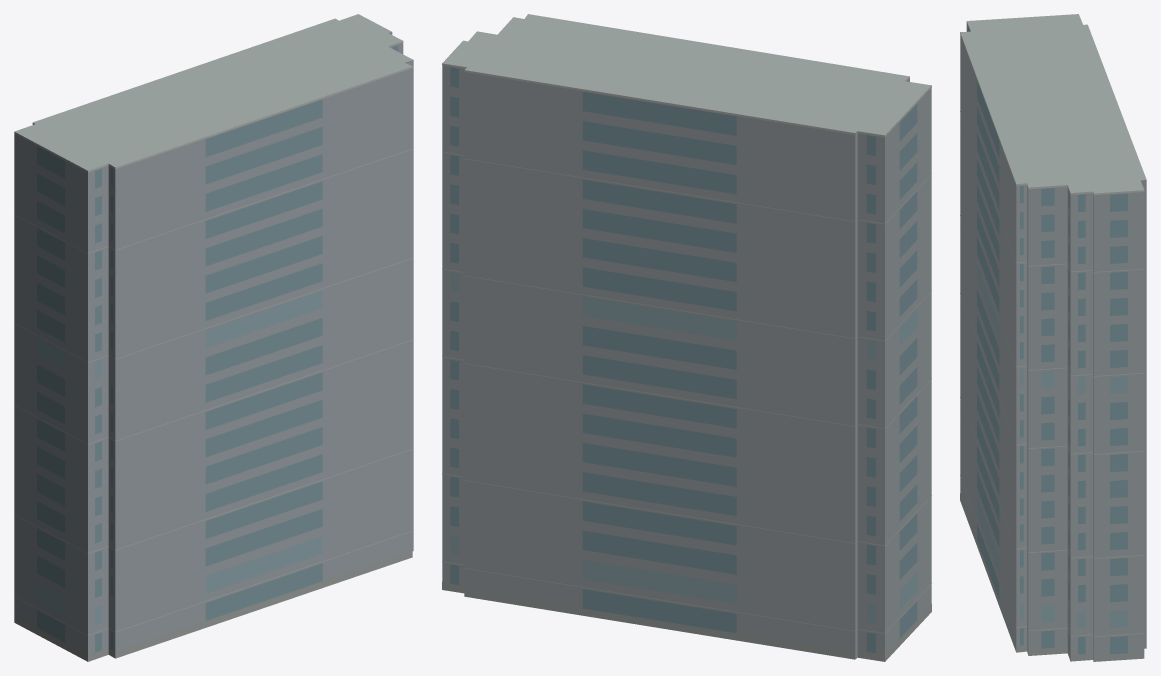
The model's file is survey-upis-33039816.glb.
The picture shows the model from 3 angles, left to right: view 1: azimuth 30°, elevation 25°; view 2: azimuth 150°, elevation 25°; view 3: azimuth 270°, elevation 25°; orthographic projection. The views are drawn at different scales.
Visible parts, largest first — view 1: survey-upis-33039816.tmp; view 2: survey-upis-33039816.tmp; view 3: survey-upis-33039816.tmp.
Part boxes in pixels (x1=…): survey-upis-33039816.tmp: x1=14, y1=14, x2=413, y2=661; survey-upis-33039816.tmp: x1=442, y1=14, x2=931, y2=661; survey-upis-33039816.tmp: x1=960, y1=14, x2=1146, y2=661.
Bounding box in the file's own units: 53.45 × 65 × 23.5.
